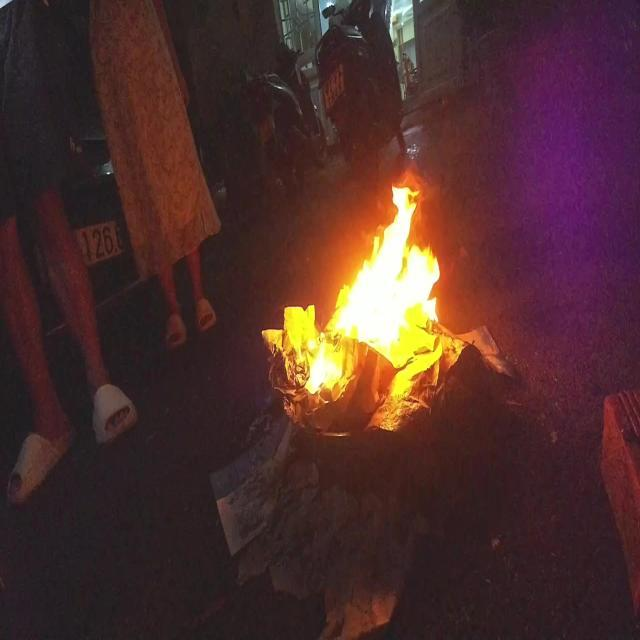Fire: (262, 184, 462, 432)
